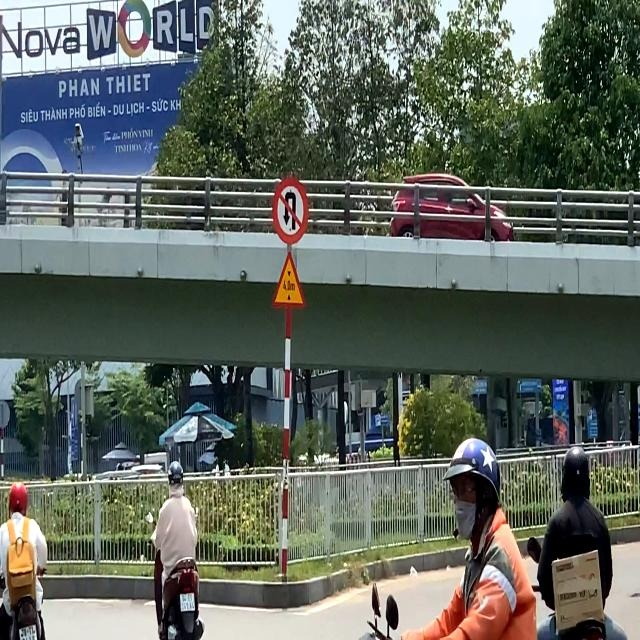bien_nguy_hiem: (272, 178, 310, 246), (269, 248, 307, 312)
